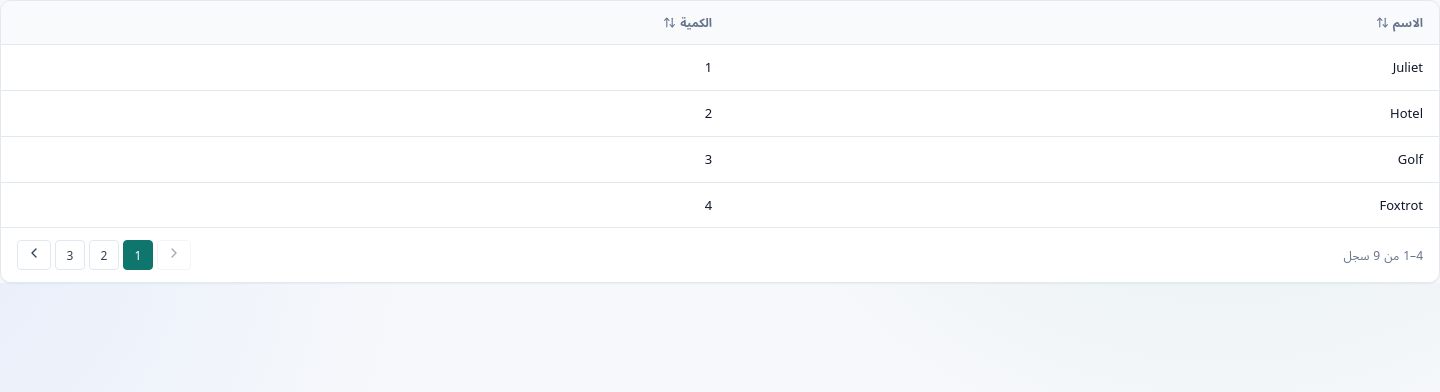
Test: DataTable › sorts rows and moves between pages
Click the button with aria-label "ترتيب تصاعدي": (1399,23) [1376,13,1423,32]
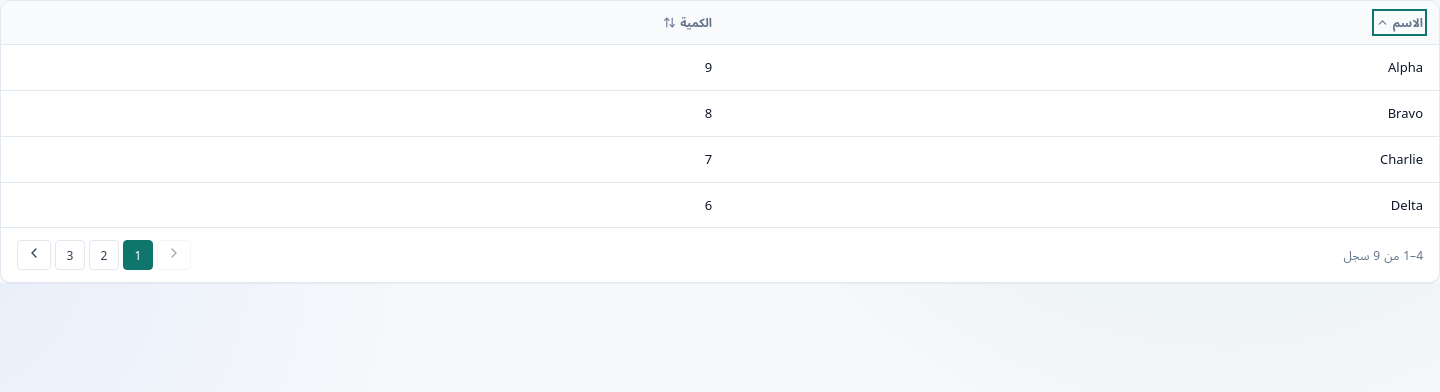
Click the button named "التالي": (34,255) [17,240,51,270]
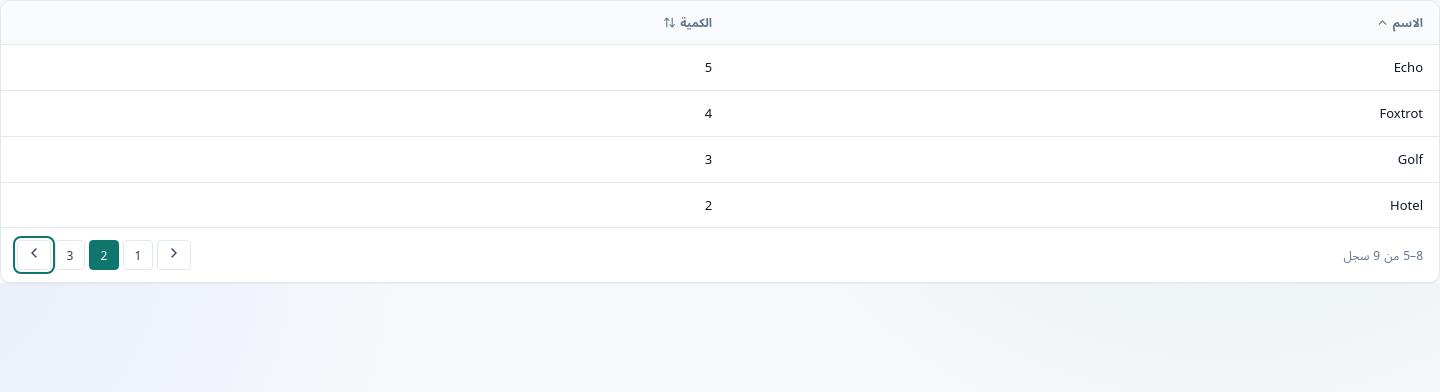
Result: the text "5–8" is shown at [1403,246,1423,265]
